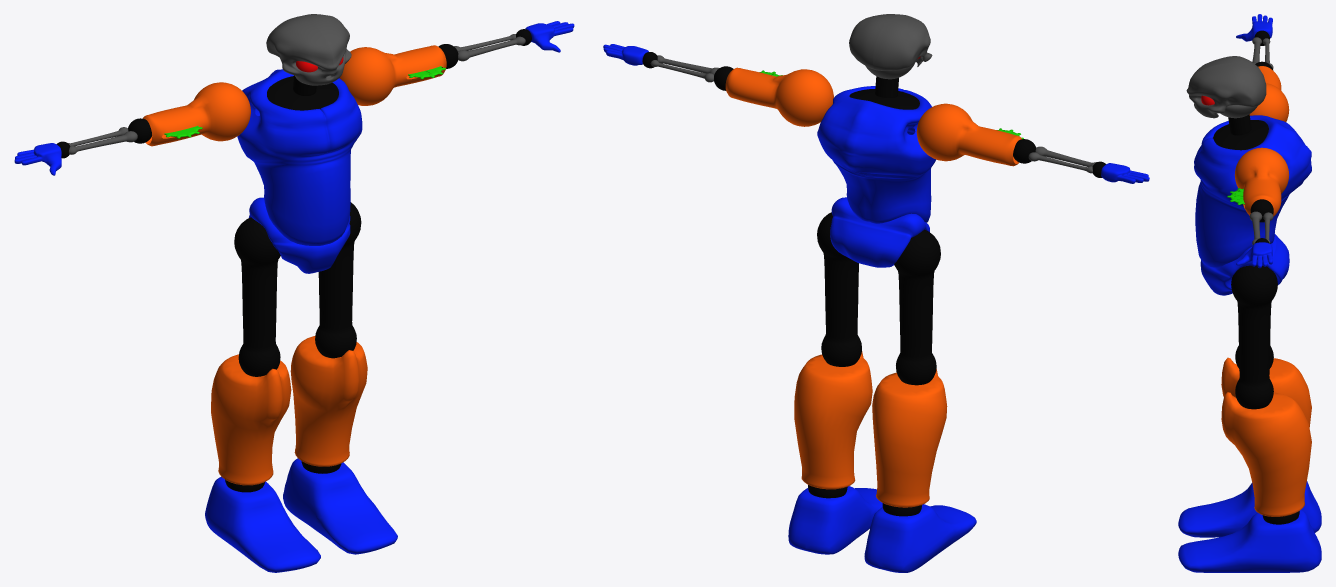
Rendered from Turbo android.fbx.
3 renders of one model, left to right at view 1: azimuth 30°, elevation 25°; view 2: azimuth 150°, elevation 25°; view 3: azimuth 270°, elevation 25°, orthographic. The views are drawn at different scales.
Parts seen in each view (by area): view 1: Clon; view 2: Clon; view 3: Clon.
Boxes of the visible parts, left/top/right/bottom form: Clon: left=14, top=14, right=574, bottom=572; Clon: left=603, top=14, right=1149, bottom=572; Clon: left=1178, top=14, right=1321, bottom=572.
Size of the model in its own units: 1444 by 1291 by 348.
